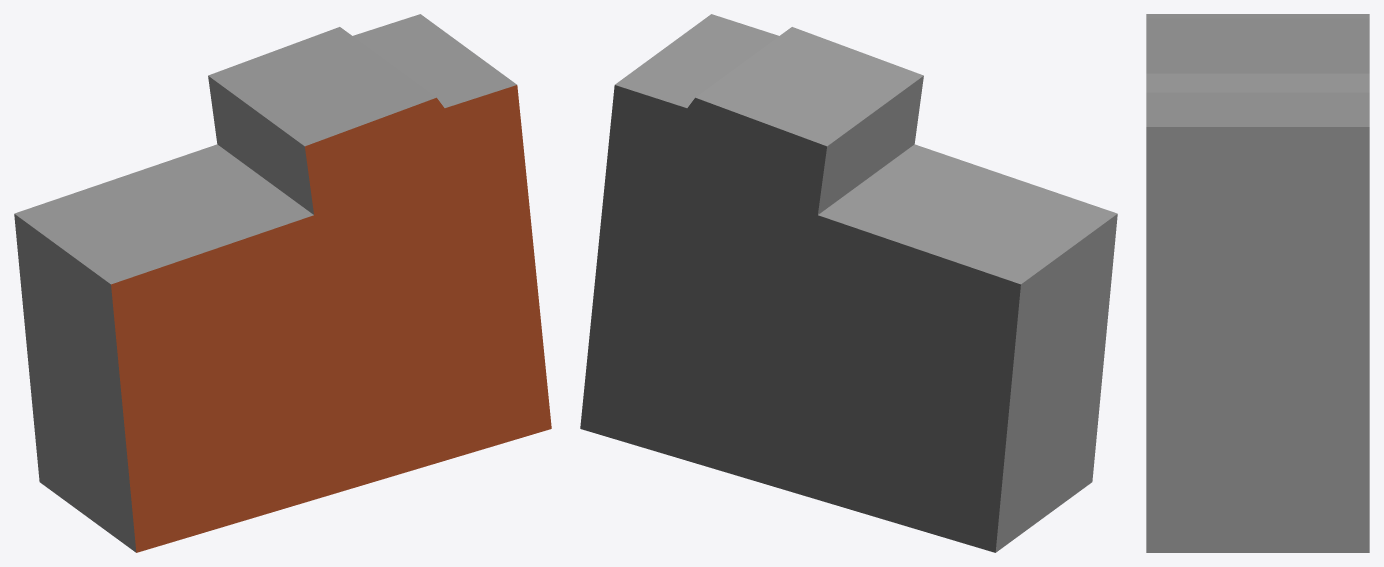
File: construction_0658_assumed_A_Casa_h6m.obj
3 renders of one model, left to right at view 1: azimuth 30°, elevation 25°; view 2: azimuth 150°, elevation 25°; view 3: azimuth 270°, elevation 25°, orthographic. The views are drawn at different scales.
Parts seen in each view (by area): view 1: construction_0658_assumed_A_Casa; view 2: construction_0658_assumed_A_Casa; view 3: construction_0658_assumed_A_Casa.
Part boxes in pixels (<box>): construction_0658_assumed_A_Casa: <box>14,14,551,552</box>; construction_0658_assumed_A_Casa: <box>580,14,1117,552</box>; construction_0658_assumed_A_Casa: <box>1146,14,1369,552</box>.
Bounding box in the file's own units: 15.77 × 13.06 × 6.
